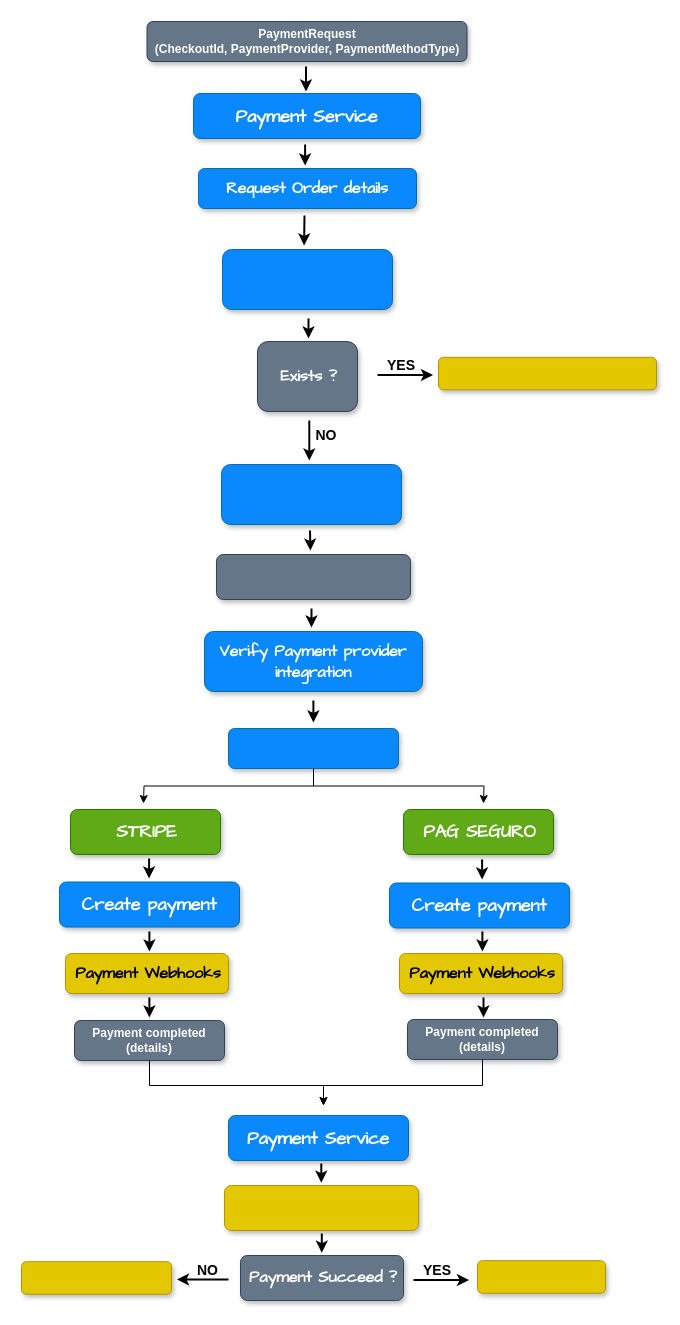
This 680x1325 diagram has some shape labels left out. The centre of each missing label's shape, as x and y in pixels:
"checkoutId, amount, paymentProvider, PaymentMethod, etc" belongs at pixel 314 578.
"Keep Transaction" belongs at pixel 97 1279.
"Payment Factory" belongs at pixel 314 750.
"Process new Payment" belongs at pixel 312 496.
"Reuse Payment (or not)" belongs at pixel 548 374.
"Save Payment" belongs at pixel 542 1278.
"Save Transaction" belongs at pixel 322 1209.
"Verify Payment existence" belongs at pixel 308 280.
